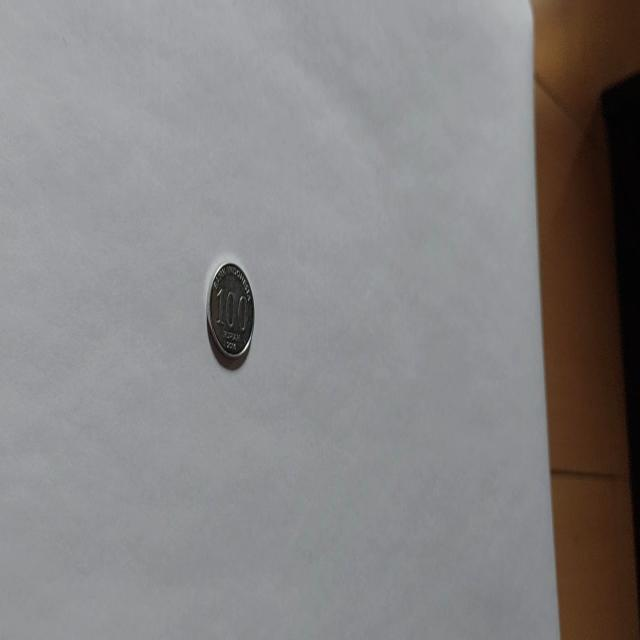seratus rupiah: (205, 260, 255, 368)
